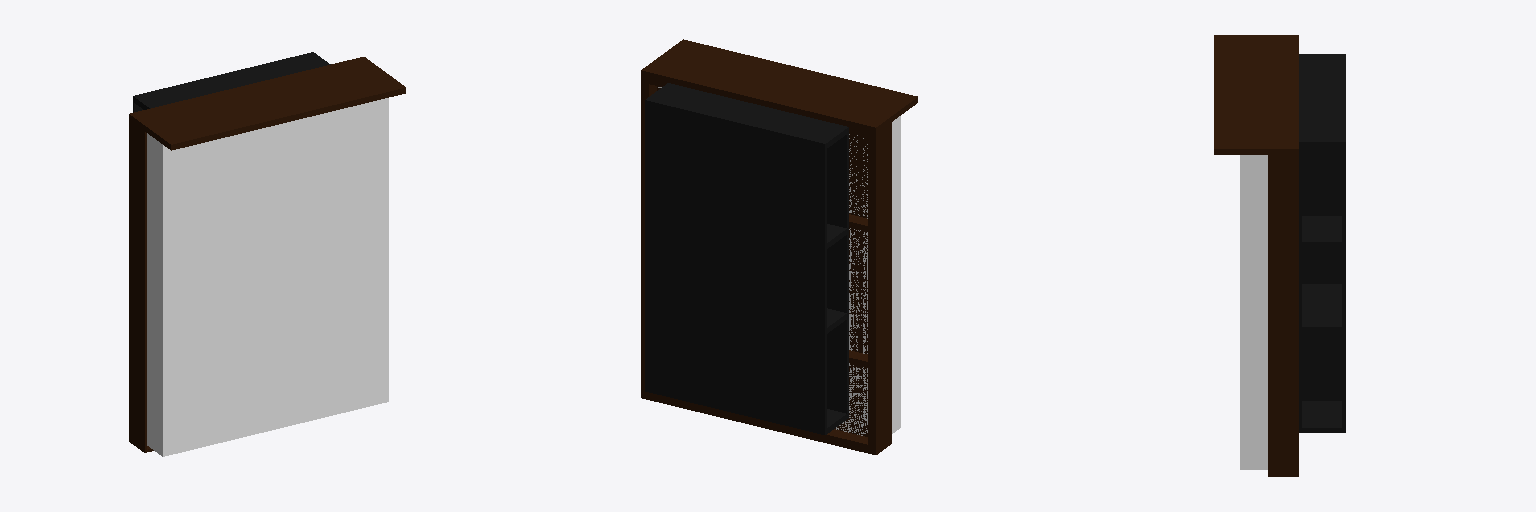
File: cat4_bed.obj
The picture shows the model from 3 angles: view 1: azimuth 30°, elevation 25°; view 2: azimuth 150°, elevation 25°; view 3: azimuth 270°, elevation 25°; orthographic projection.
Parts seen in each view (by area): view 1: Group#18, Group#19, Group#15, Group#1; view 2: Group#10, Group#19, Group#15, Group#9, Group#18, Group#14, Group#1, Group#12, Group#11 2, Group#16, Group#17; view 3: Group#19, Group#16, Group#18, Group#1, Group#6, Group#6 2, Group#3, Group#10, Group#7, Group#2, Group#4, Group#9.
Part boxes in pixels (bbox=[...]): Group#18: bbox=[147, 98, 388, 456]; Group#19: bbox=[129, 57, 405, 150]; Group#15: bbox=[129, 120, 146, 452]; Group#1: bbox=[134, 53, 330, 109]; Group#10: bbox=[645, 99, 826, 434]; Group#19: bbox=[641, 39, 917, 132]; Group#15: bbox=[873, 122, 891, 454]; Group#9: bbox=[667, 83, 848, 418]; Group#18: bbox=[658, 87, 900, 435]; Group#14: bbox=[657, 86, 867, 436]; Group#1: bbox=[647, 84, 846, 147]; Group#12: bbox=[868, 138, 872, 445]; Group#11 2: bbox=[644, 390, 872, 451]; Group#16: bbox=[641, 76, 643, 398]; Group#17: bbox=[644, 396, 872, 454]; Group#19: bbox=[1214, 35, 1298, 154]; Group#16: bbox=[1268, 155, 1298, 476]; Group#18: bbox=[1240, 155, 1267, 469]; Group#1: bbox=[1302, 54, 1341, 147]; Group#6: bbox=[1302, 148, 1341, 215]; Group#6 2: bbox=[1302, 333, 1341, 400]; Group#3: bbox=[1302, 284, 1341, 332]; Group#10: bbox=[1342, 54, 1345, 432]; Group#7: bbox=[1302, 248, 1341, 283]; Group#2: bbox=[1302, 216, 1341, 247]; Group#4: bbox=[1302, 401, 1341, 432]; Group#9: bbox=[1299, 54, 1301, 432].
Size of the model in its own units: 62.5 by 83.25 by 30.25.